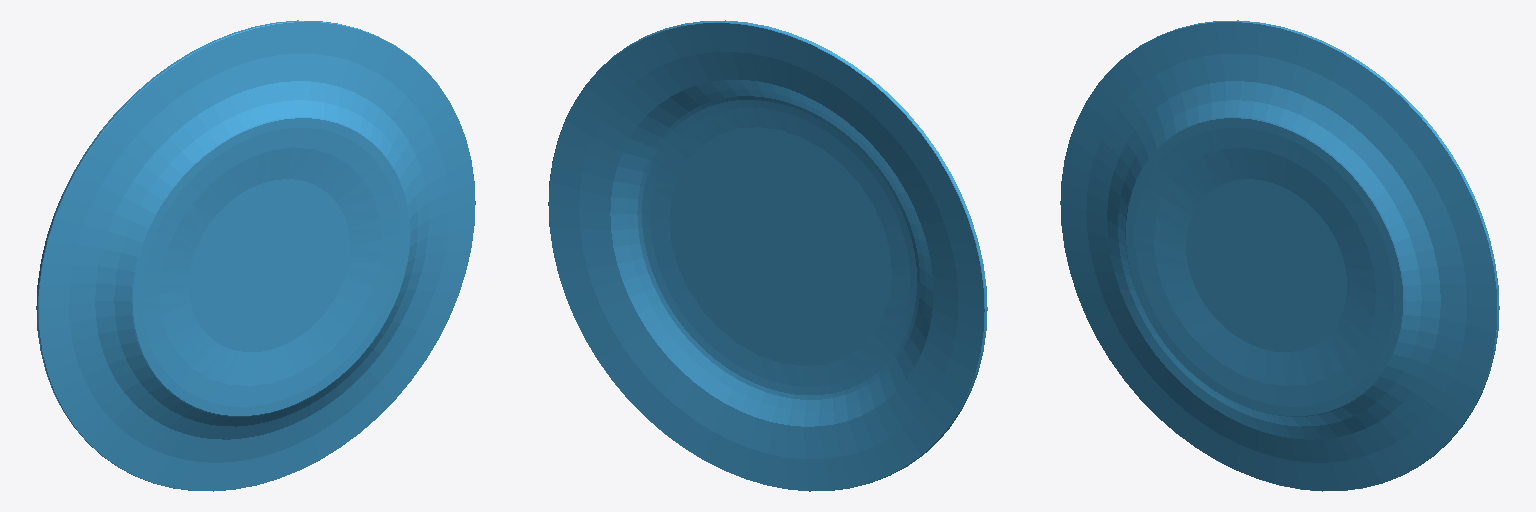
URDF robot description (generated_robot):
<robot name="generated_robot">
    <link name="plate_base" />
    <link name="plate">
        <visual name="door_frame-6">
            <origin xyz="0 0 0 " />
            <geometry>
                <mesh filename="plate.obj" />
            </geometry>
        </visual>
        <collision>
            <origin xyz="0 0 0 " />
            <geometry>
                <mesh filename="plate_collision.obj" />
            </geometry>
        </collision>
    </link>    
    <joint name="joint_0" type="fixed">
        <origin xyz="0 0 0" />
        <axis xyz="0 -1 0" />
        <child link="plate_base" />
        <parent link="plate" />
    </joint>
</robot>

--- What the picture shows (computed from the rendered views, not written in the file) ---
3 views of the same robot in one strip: view 1: azimuth 30°, elevation 25°; view 2: azimuth 150°, elevation 25°; view 3: azimuth 330°, elevation 25° (orthographic).
Robot: generated_robot — 2 links, 1 joints (1 fixed); root link plate; default pose: every joint at zero.
Links seen in each view (by area): view 1: plate; view 2: plate; view 3: plate.
Boxes of the visible links, x1,y1,x2,y2 form: plate: (36,20,475,491); plate: (548,20,987,491); plate: (1060,20,1499,491).
Bounding box of the posed robot: 0.5997 × 0.0399 × 0.5997 m (x, y, z).
1 mesh visuals loaded from 1 distinct referenced files (1 OBJ).